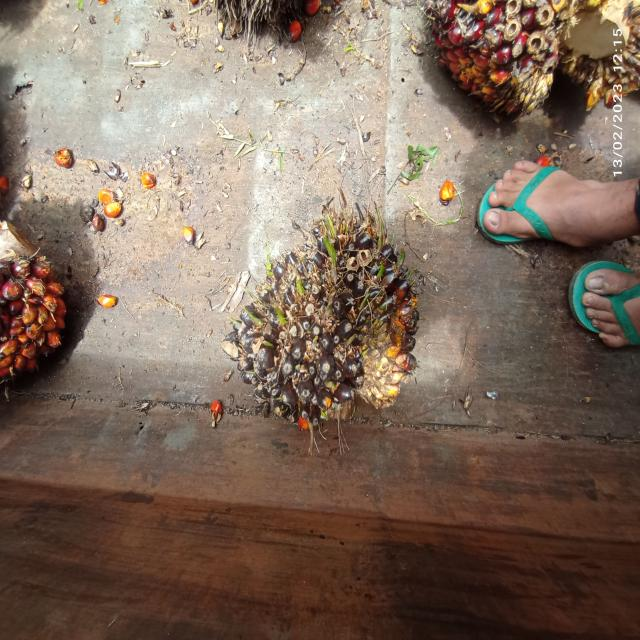fraksi 00: (218, 191, 436, 480)
